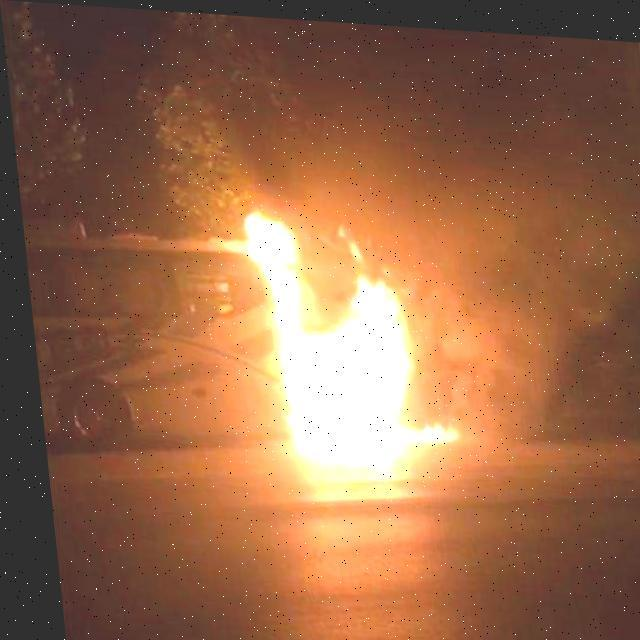Fire: (241, 207, 442, 486)
